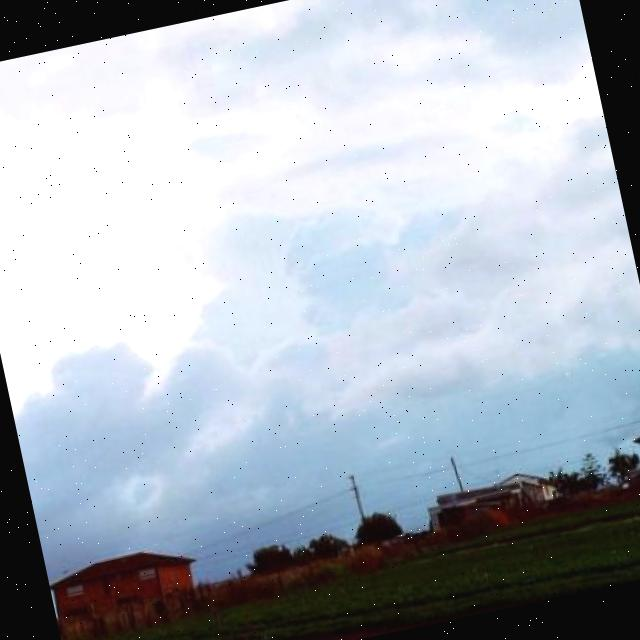Sc: (1, 1, 640, 510)
